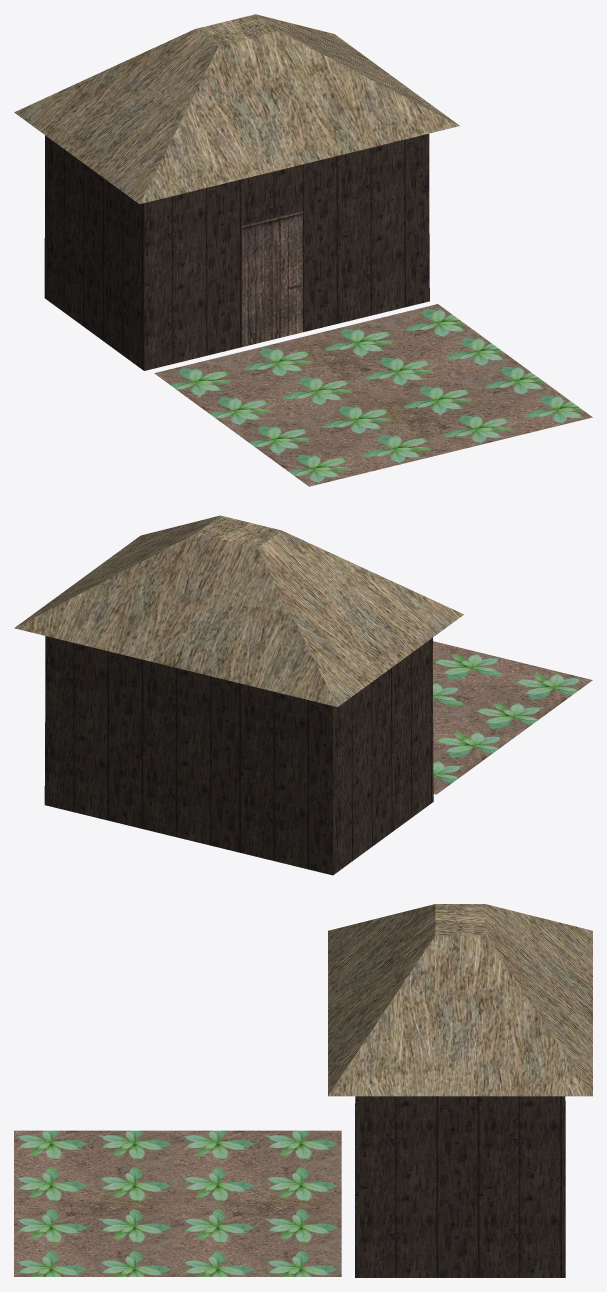
The model's file is Farm.fbx.
3 renders of one model, top to bottom at view 1: azimuth 30°, elevation 25°; view 2: azimuth 150°, elevation 25°; view 3: azimuth 270°, elevation 25°, orthographic. The views are drawn at different scales.
Visible parts, largest first — view 1: Cube; view 2: Cube; view 3: Cube.
Boxes of the visible parts, x1,y1,x2,y2 form: Cube: (14,14,592,486); Cube: (14,515,592,875); Cube: (14,904,592,1277).
Bounding box in the file's own units: 5.63 × 4.52 × 8.33.
1 material, 1 textured.
